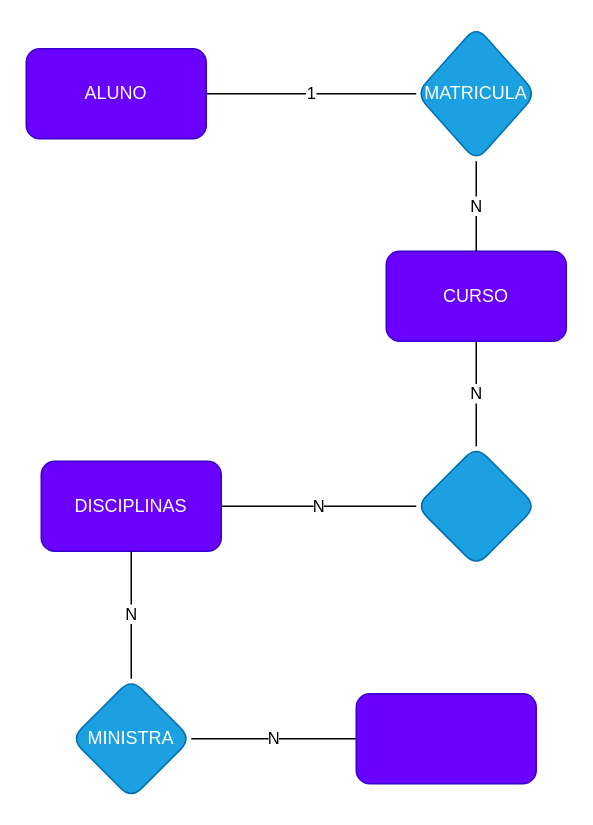
Some shapes in this 593 by 825 pixel diagram are drawn without their labels. Here are the shapes that lost their labels. From the top down, the box of each, then its label:
(415, 445, 536, 566): PERTENCE
(355, 692, 536, 784): PROFESSOR
